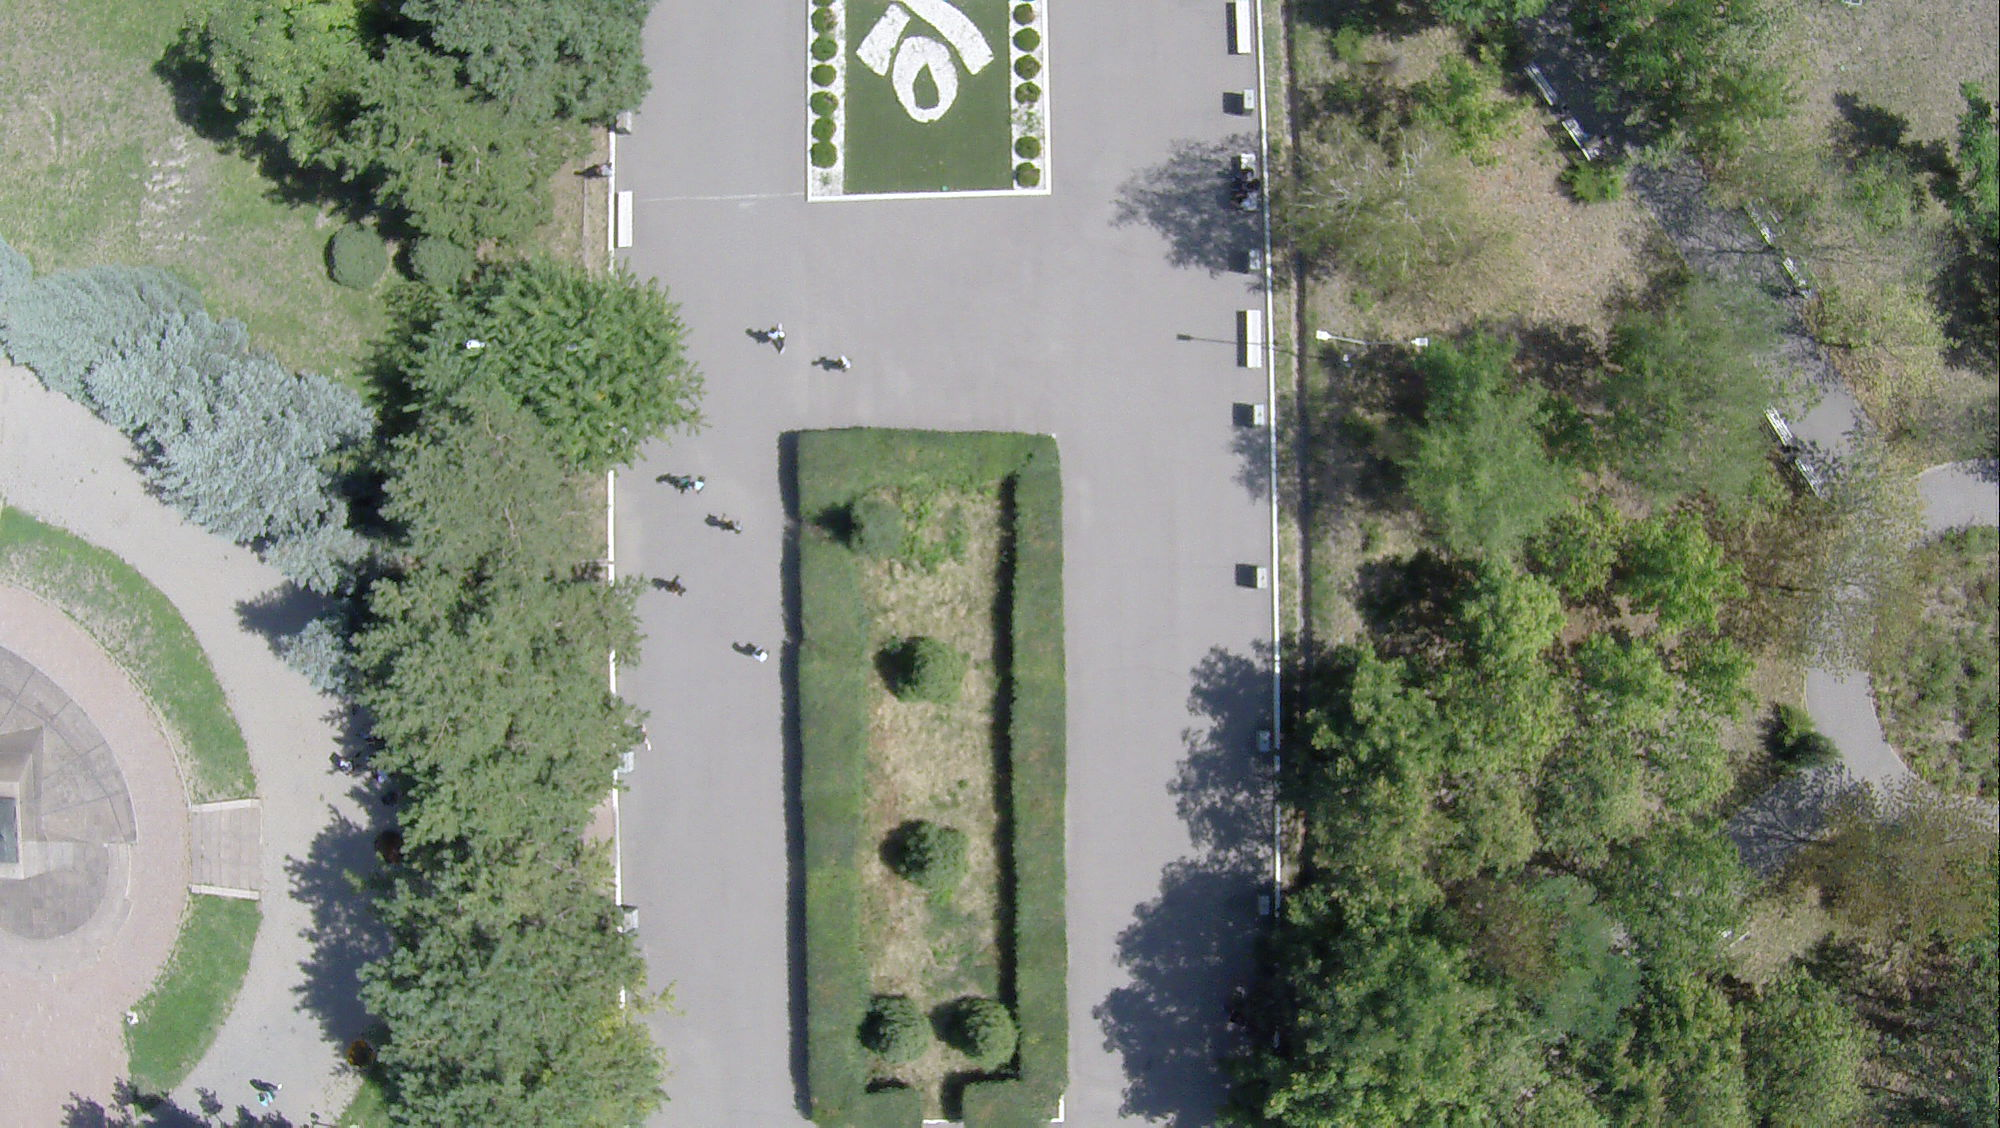person: (766, 323, 787, 352), (834, 354, 851, 374), (724, 520, 740, 537), (755, 648, 772, 665), (688, 477, 705, 493), (676, 477, 689, 494)
